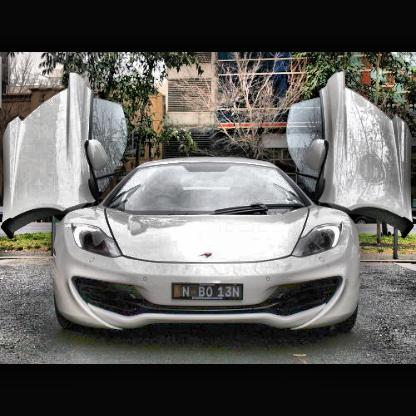McLaren MP4-12C Coupe 2012: (2, 69, 416, 351)
